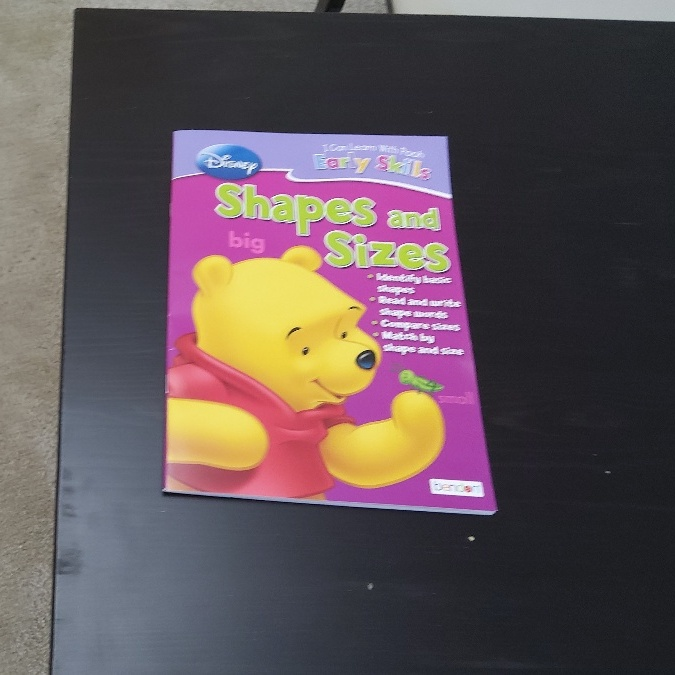book: (157, 126, 501, 521)
